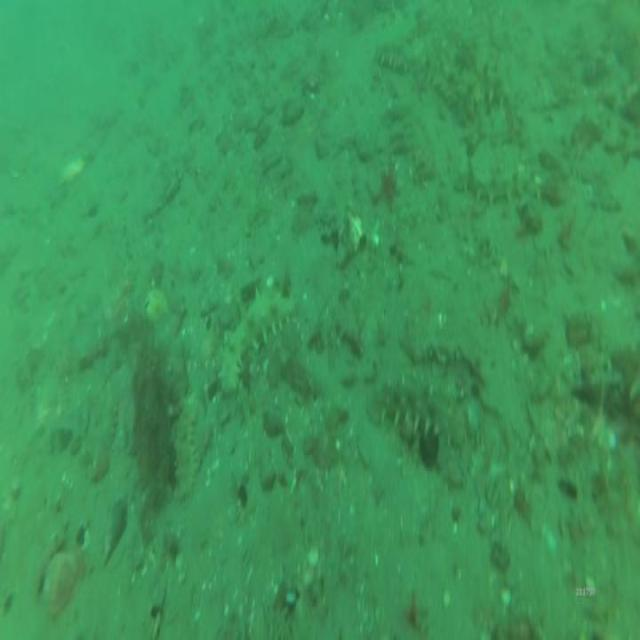holothurian: (216, 276, 300, 396), (381, 370, 451, 446), (453, 27, 503, 103), (167, 397, 200, 498), (458, 158, 530, 204), (431, 57, 476, 125), (92, 395, 120, 485), (375, 41, 410, 73)
